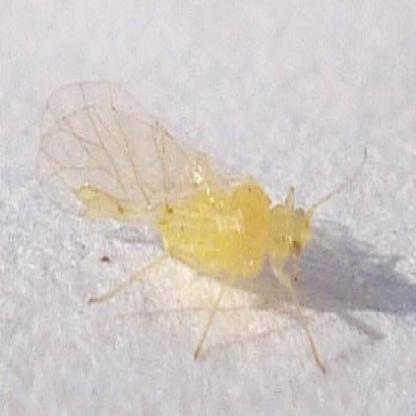aphid: (39, 67, 352, 353)
